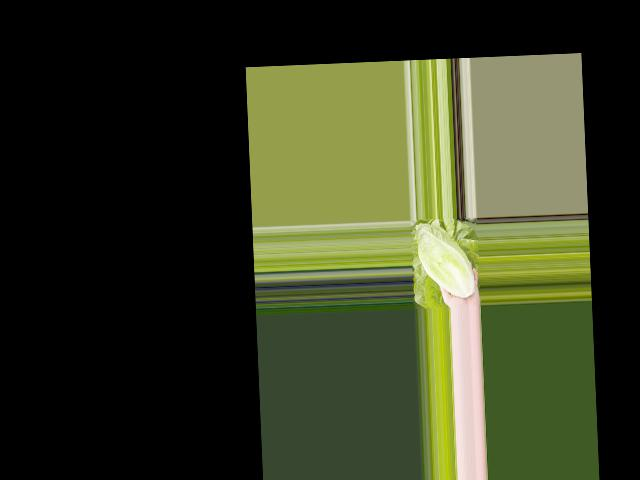lettuce: (414, 220, 477, 300)
